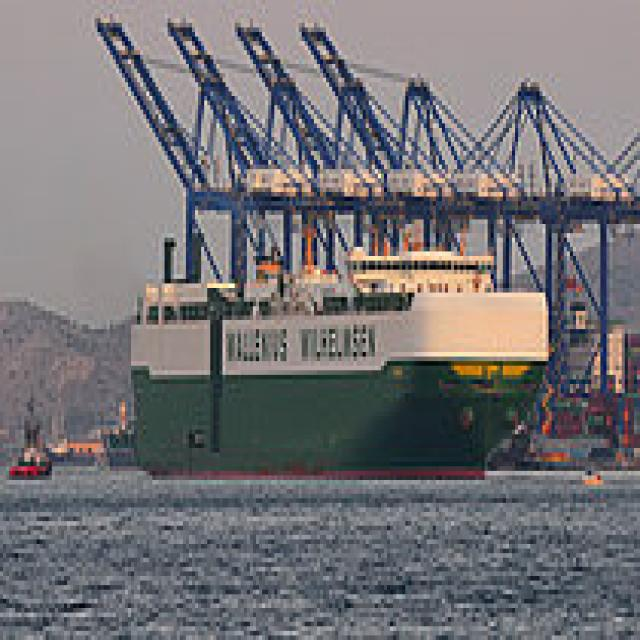Carrier: (122, 229, 548, 480)
